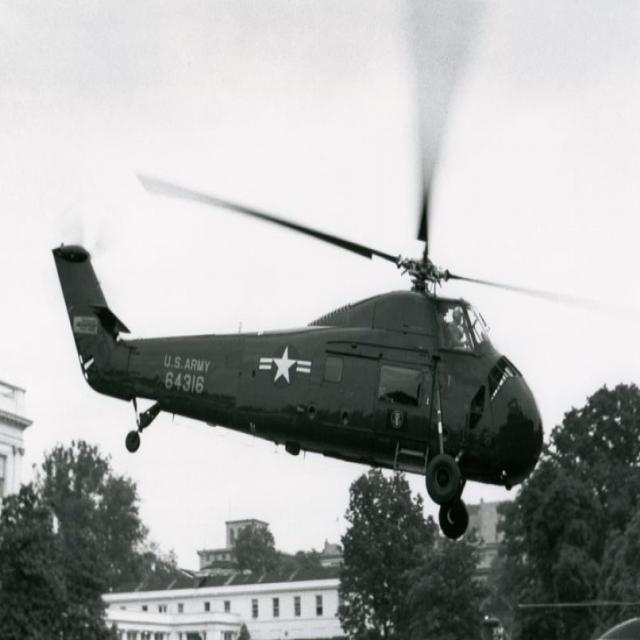helicopter: (56, 1, 537, 543)
